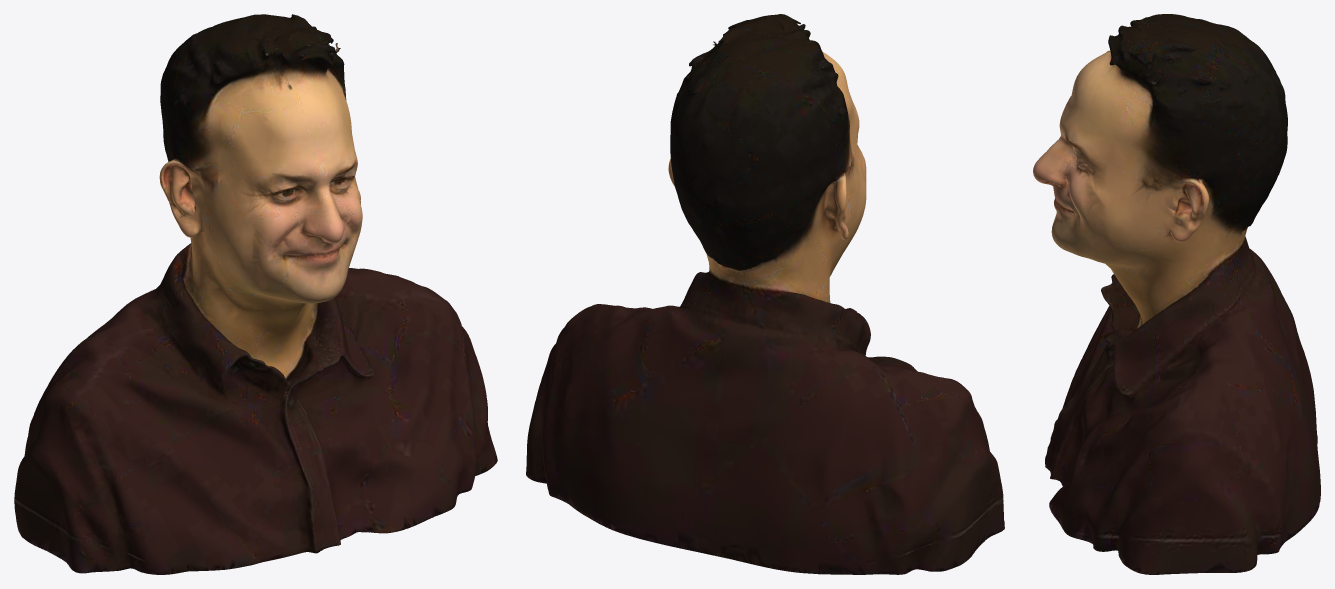
File: Meshy_AI_Warm_Portrait_under_2MB.glb
3 views of the same model, side by side, from view 1: azimuth 30°, elevation 25°; view 2: azimuth 150°, elevation 25°; view 3: azimuth 270°, elevation 25° (orthographic). The views are drawn at different scales.
Size of the model in its own units: 1.84 by 1.9 by 1.09.
1 material, 1 textured.
